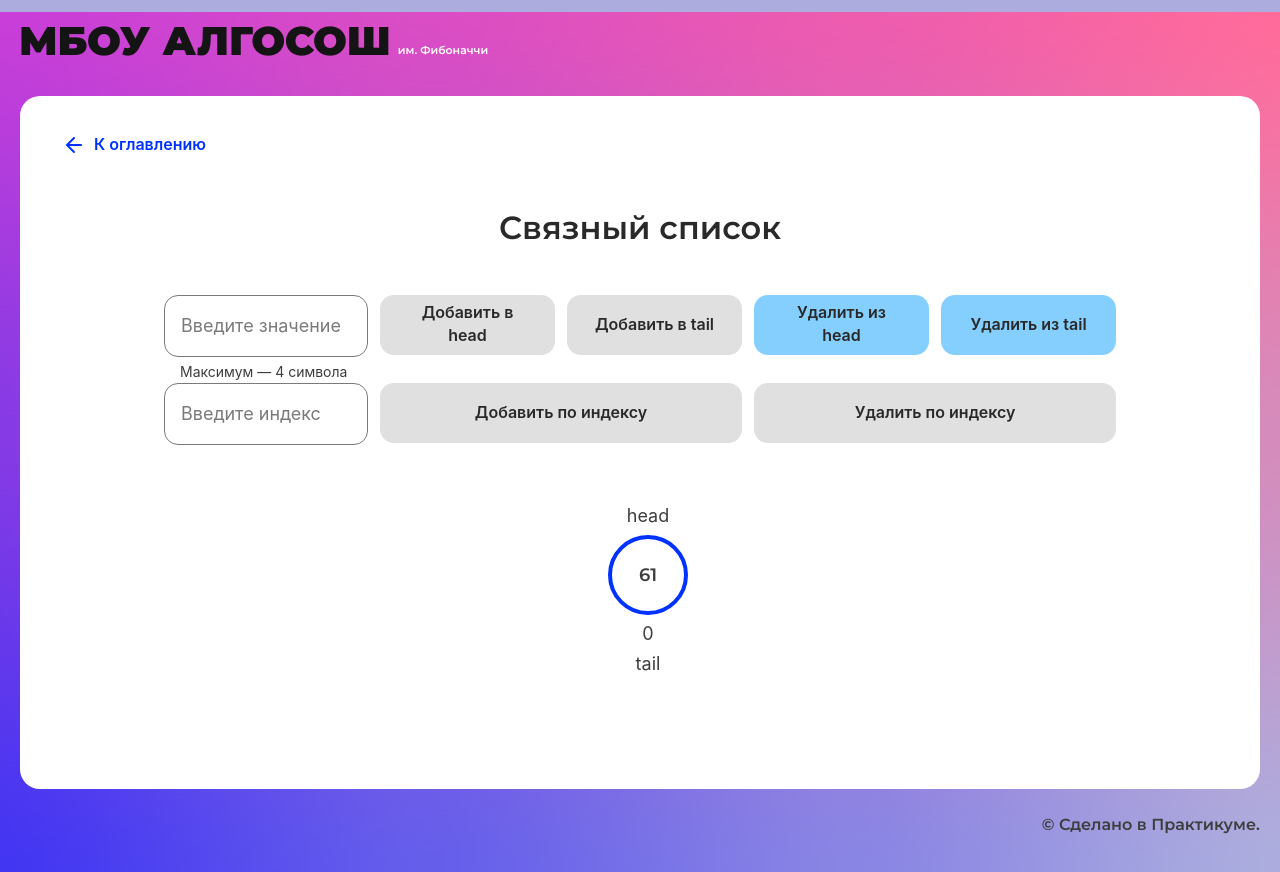
Test: Проверка работы визуализатора "Cвязанный список" › Проверка состояния кнопок и инпута › В инпут можно ввести не более 4 символов
In the field with test id "value-input": (266, 326) [164,295,368,357], type "85965478"
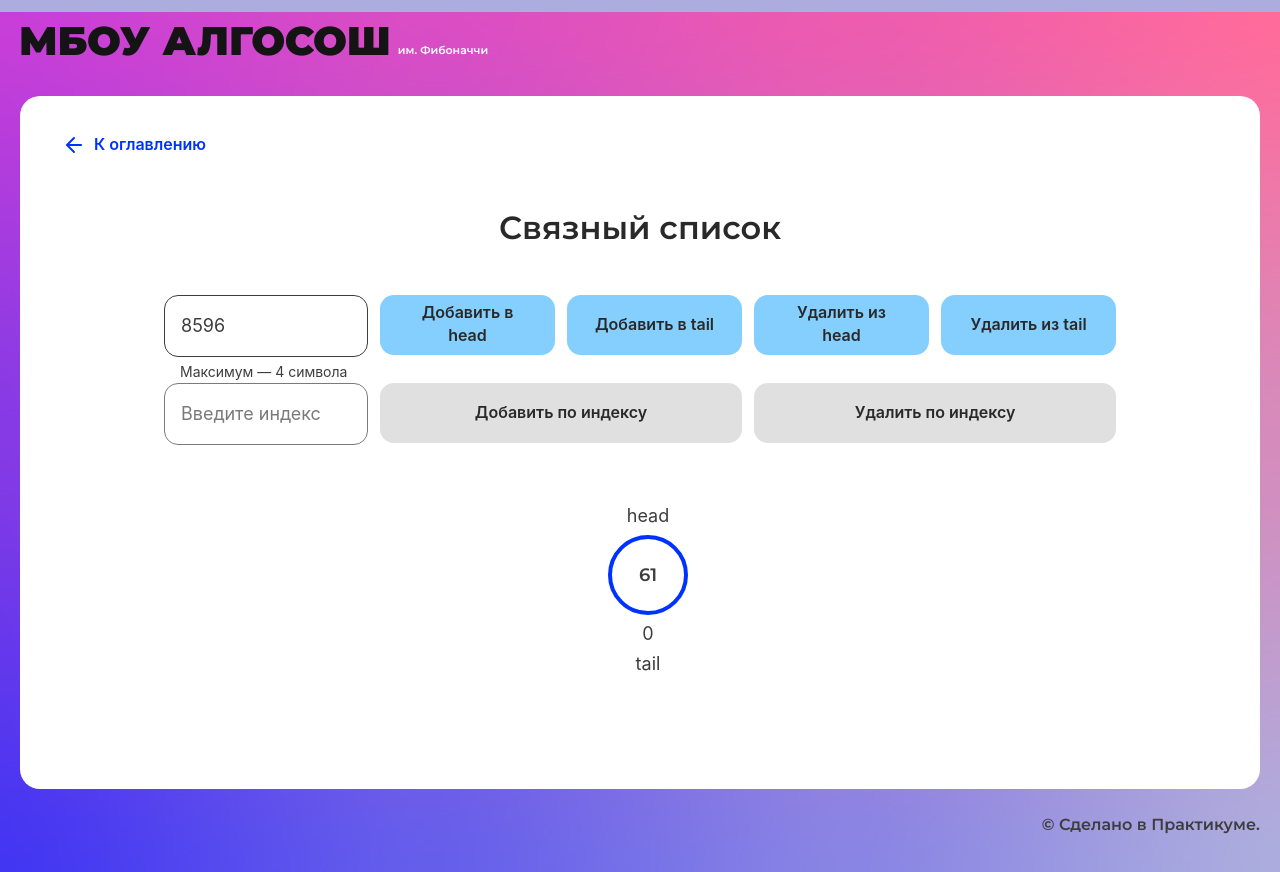
Check: the field with test id "value-input" holds "8596", box [164,295,368,357]
